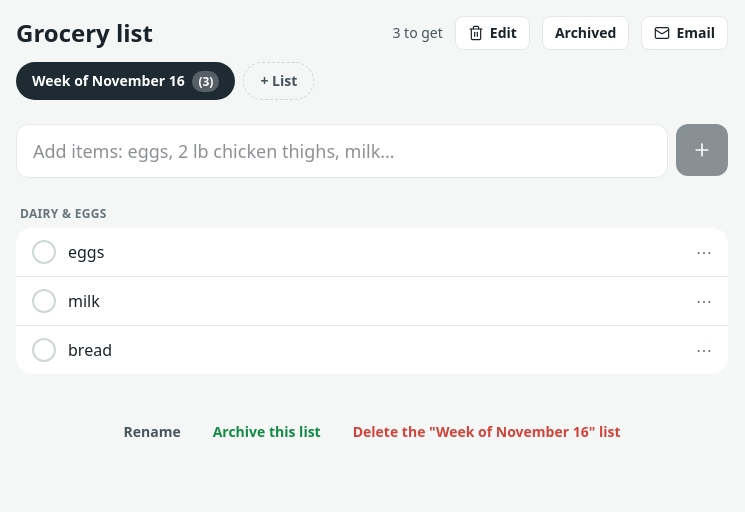
Test: grocery list: edit mode › Select all, and Delete is off until something is picked
Later steps or results of the test are not shown.
Click the button with aria-label "Select items to delete" at (492, 33), box [455,16,530,50]
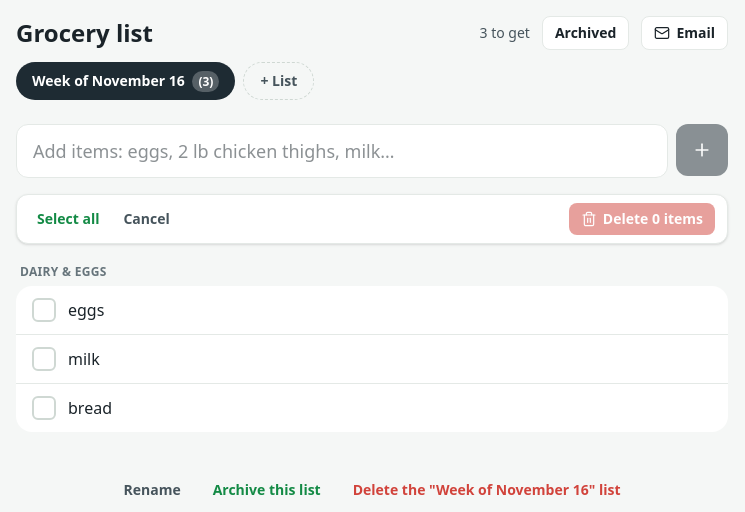
Now the button "Delete 0 items" is disabled, box [569,203,715,235]
Click the button "Select all" at (68, 219), box [29,203,108,235]
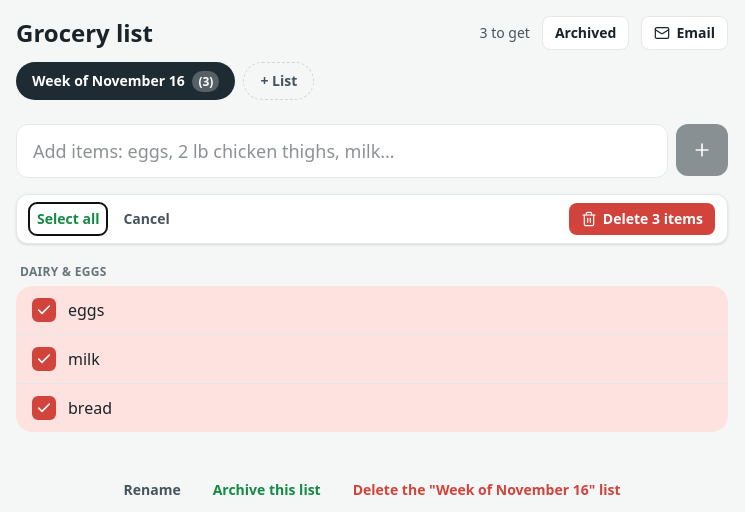
Now the button "Delete 3 items" is enabled, box [569,203,715,235]
